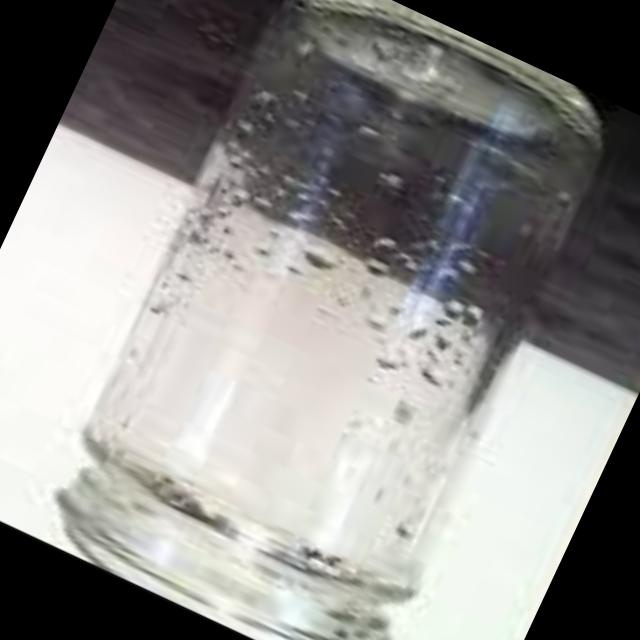ToplesKaca: (21, 0, 640, 640)
